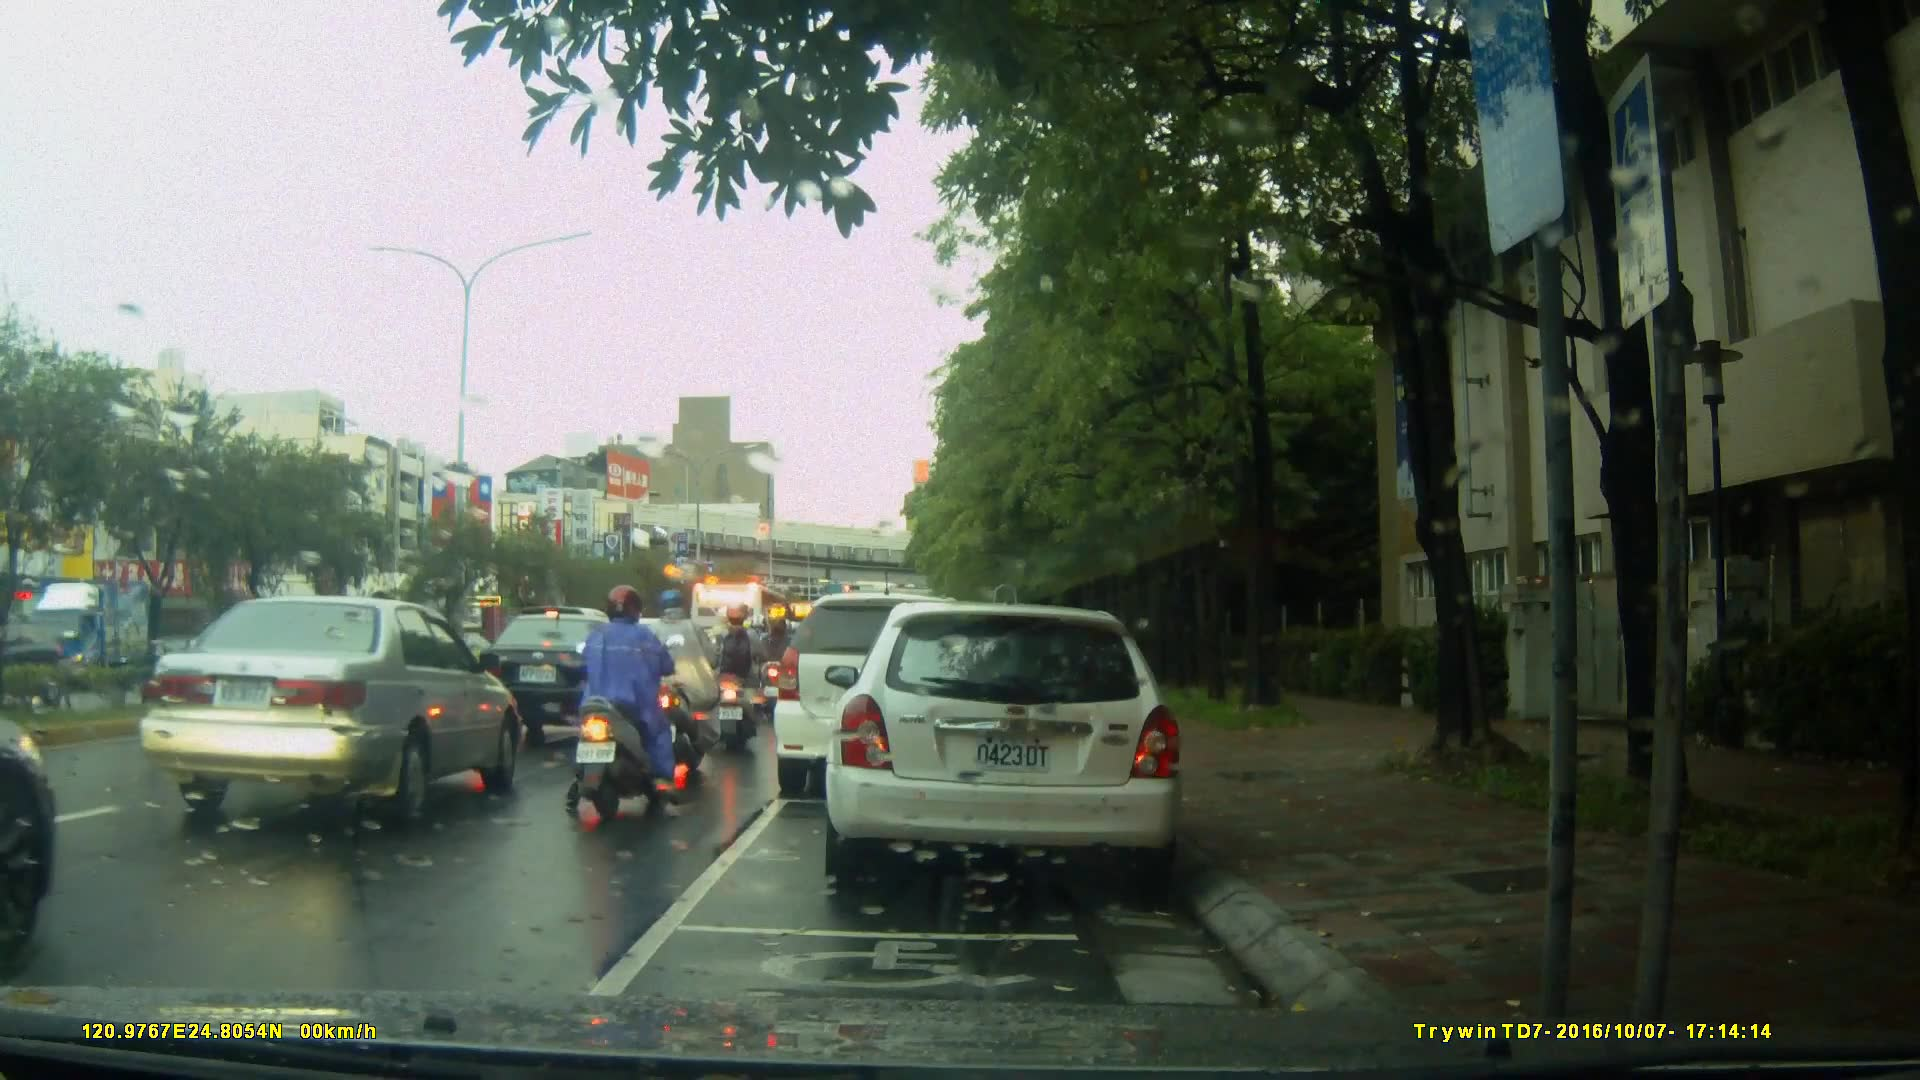rider: (567, 582, 675, 820), (661, 587, 739, 772), (703, 602, 762, 736), (758, 612, 795, 713)
vehicle: (831, 592, 1196, 897), (136, 594, 532, 823), (769, 592, 999, 800), (472, 610, 649, 749), (686, 581, 804, 706), (22, 576, 156, 679)
